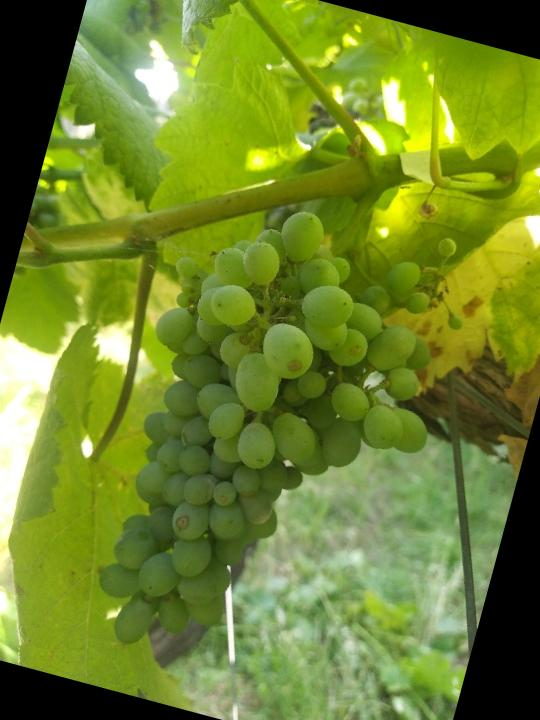grape: (68, 165, 489, 715)
